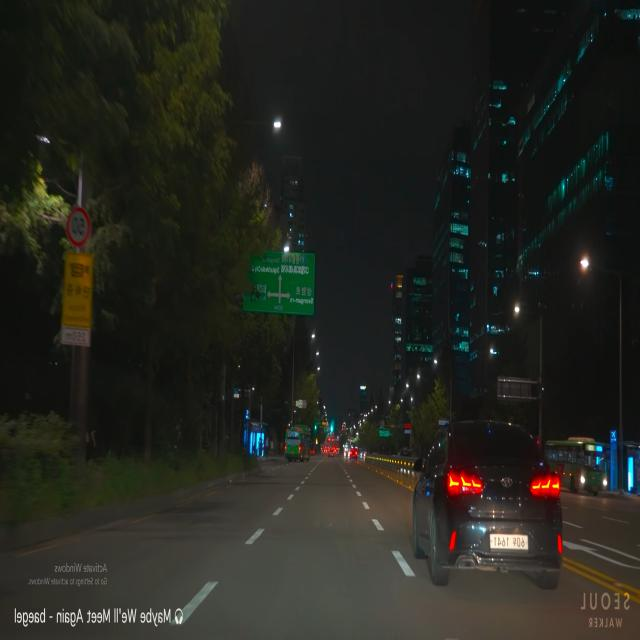headlights: (574, 469, 612, 493)
